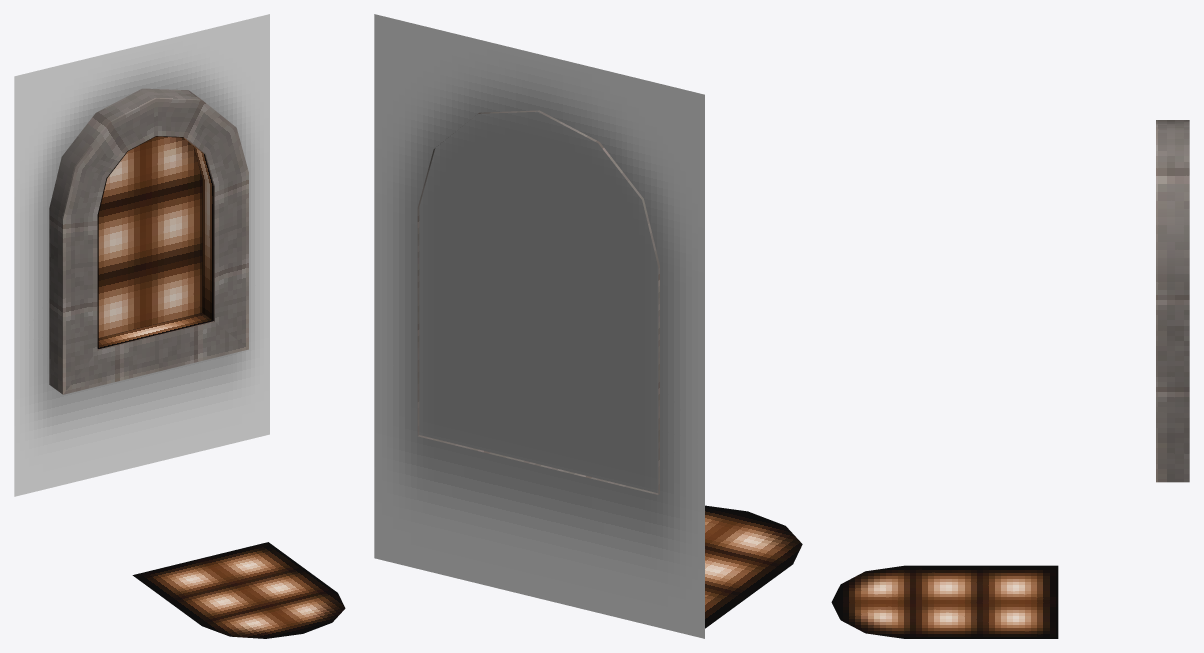
File: Castle Window1.fbx
3 views of the same model, side by side, from view 1: azimuth 30°, elevation 25°; view 2: azimuth 150°, elevation 25°; view 3: azimuth 270°, elevation 25° (orthographic). The views are drawn at different scales.
Parts seen in each view (by area): view 1: shadow, add, window; view 2: shadow, add, window; view 3: add, window.
Boxes of the visible parts, x1,y1,x2,y2 form: shadow: [14, 14, 269, 496]; add: [97, 136, 345, 638]; window: [49, 88, 248, 394]; shadow: [374, 14, 704, 638]; add: [705, 505, 802, 628]; window: [417, 110, 659, 494]; add: [831, 565, 1058, 638]; window: [1156, 120, 1189, 482].
Bounding box in the file's own units: 1.09 × 1.92 × 1.2.
